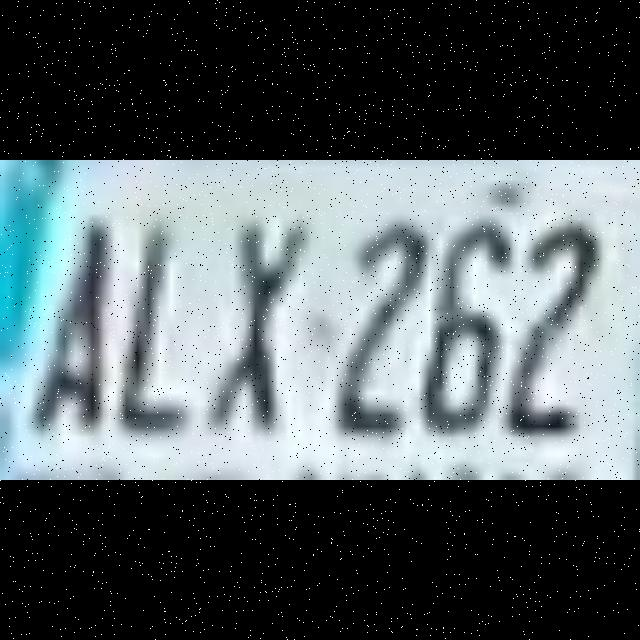2: (516, 171, 618, 463), (321, 171, 422, 463)
6: (418, 171, 520, 463)
A: (22, 171, 124, 463)
L: (120, 171, 222, 463)
X: (218, 171, 320, 463)
